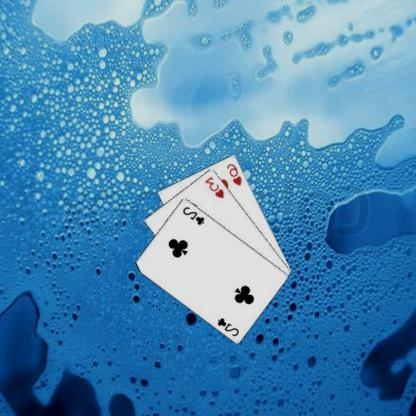2C: (216, 315, 242, 337), (182, 204, 207, 226)
3H: (204, 174, 227, 199)
6H: (226, 161, 245, 186)
